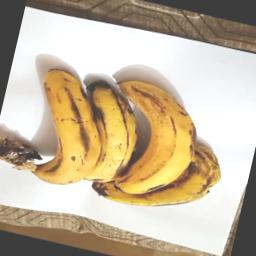Banana Unripe: (0, 53, 233, 223)
